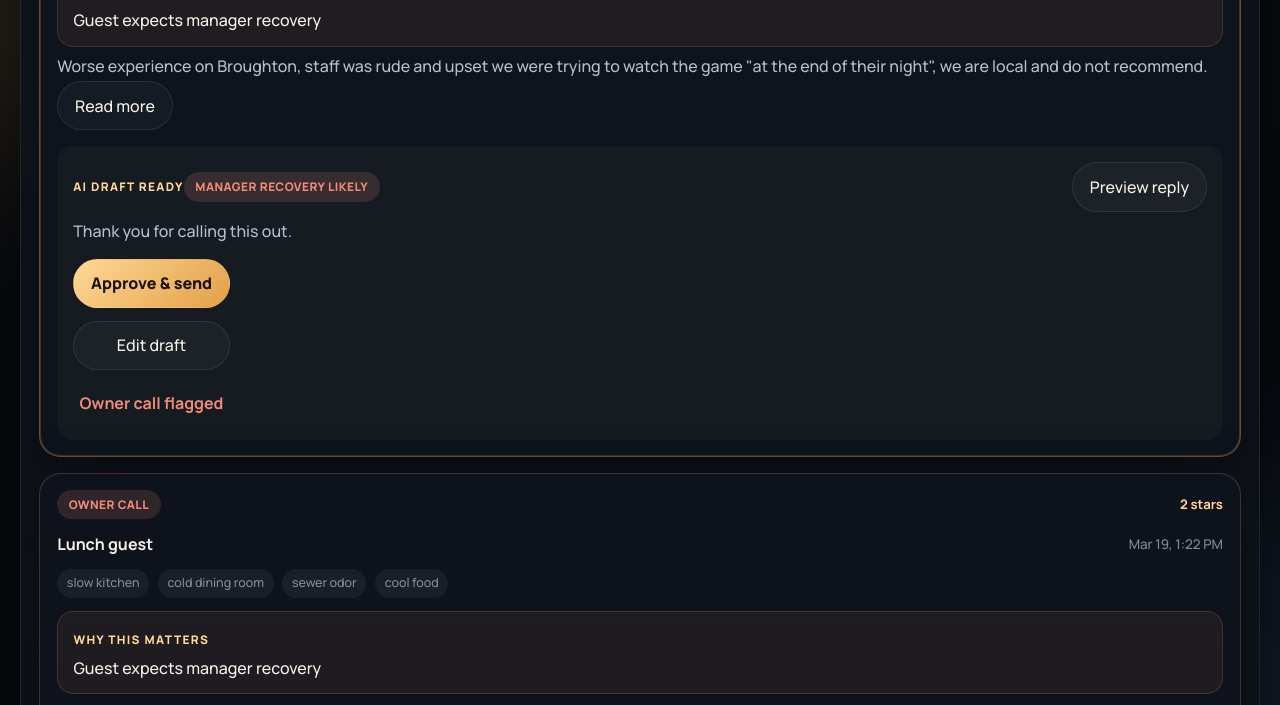
Test case: App responsive workflow › opens the mobile composer sheet instead of inline editing on compact viewports
This screenshot has width=1280, height=705.
(page scrolled)
Click the button "Edit draft" at {"x": 152, "y": 345}, box [73,320,230,370]
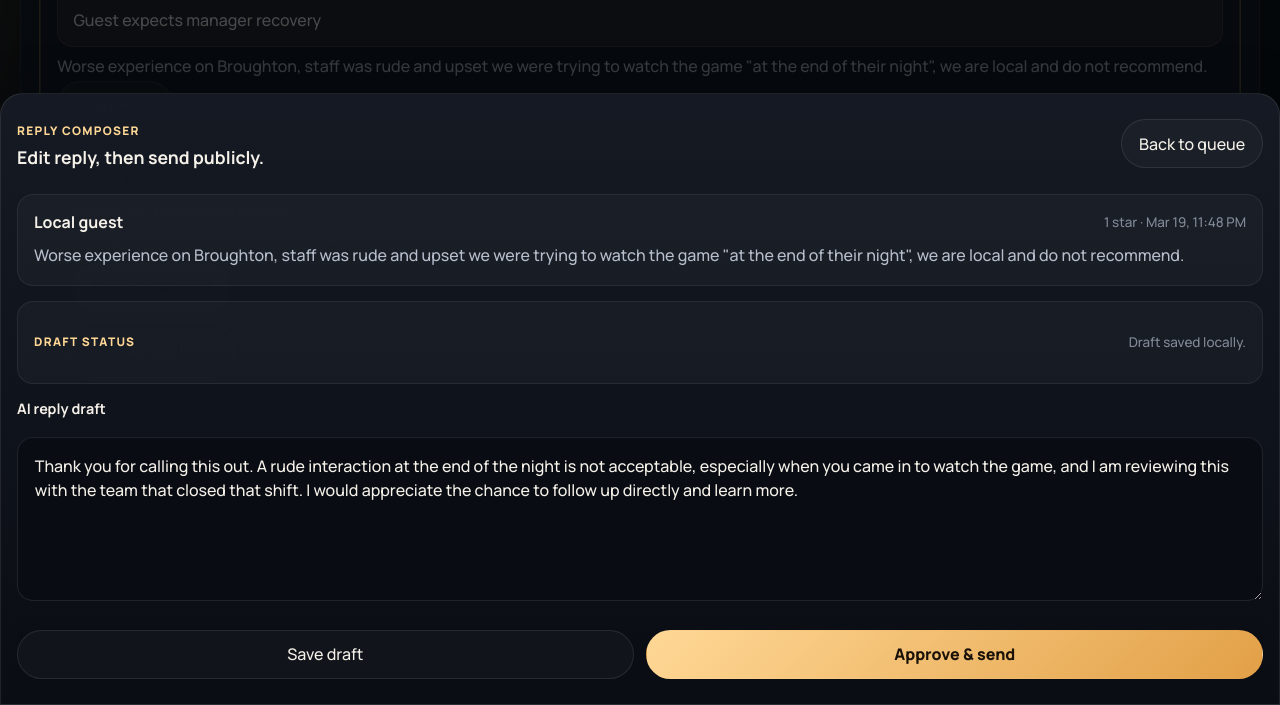
Result: the dialog is shown
Result: the button "Back to queue" is shown at [1121,119,1263,168]
